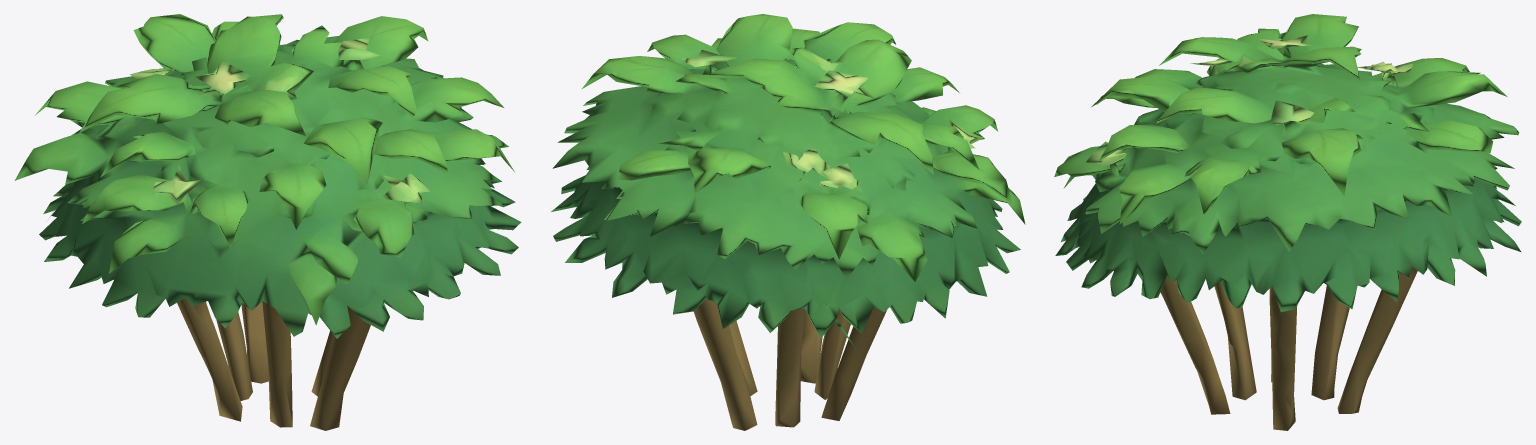
File: buisson.glb
3 renders of one model, left to right at view 1: azimuth 30°, elevation 25°; view 2: azimuth 150°, elevation 25°; view 3: azimuth 270°, elevation 25°, orthographic.
Visible parts, largest first — view 1: tripo_node_248e19f5-e678-4ce4-a1b2-2f7fc4267510; view 2: tripo_node_248e19f5-e678-4ce4-a1b2-2f7fc4267510; view 3: tripo_node_248e19f5-e678-4ce4-a1b2-2f7fc4267510.
Part boxes in pixels (left/top/right/bottom): tripo_node_248e19f5-e678-4ce4-a1b2-2f7fc4267510: left=14, top=14, right=521, bottom=430; tripo_node_248e19f5-e678-4ce4-a1b2-2f7fc4267510: left=551, top=14, right=1025, bottom=430; tripo_node_248e19f5-e678-4ce4-a1b2-2f7fc4267510: left=1054, top=14, right=1521, bottom=430.
Bounding box in the file's own units: 1 × 0.8267 × 0.9833.
Materials: 1 (1 with a texture image).
